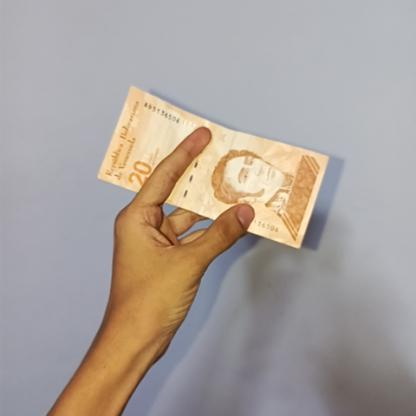twenty-front-vef: (93, 83, 328, 247)
